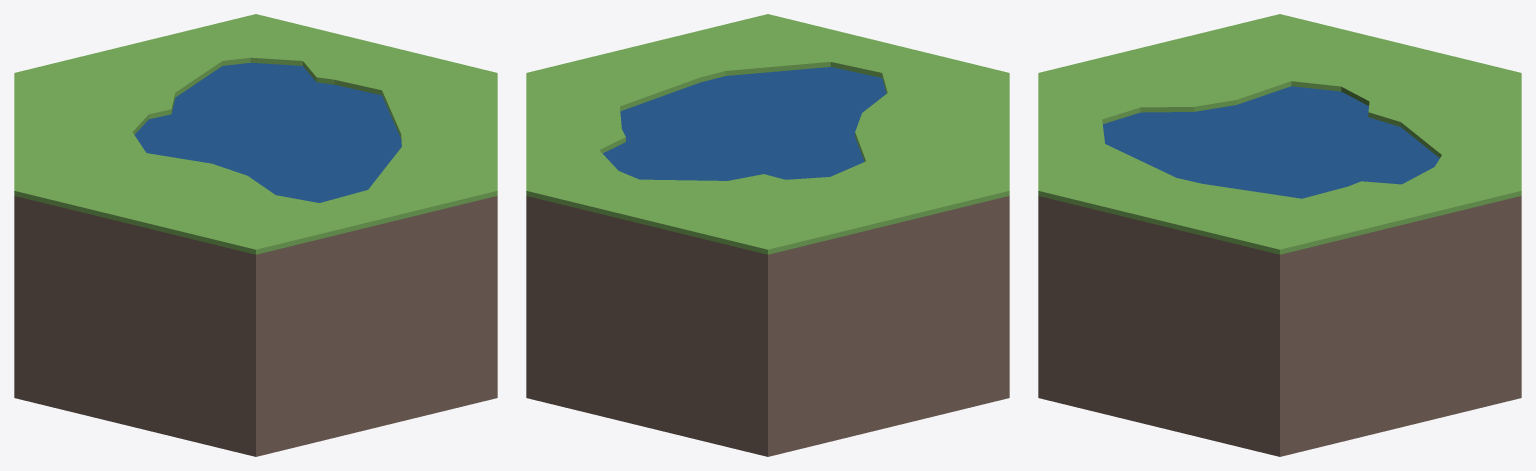
File: tile_lake01.fbx
3 renders of one model, left to right at view 1: azimuth 30°, elevation 25°; view 2: azimuth 150°, elevation 25°; view 3: azimuth 270°, elevation 25°, orthographic.
Visible parts, largest first — view 1: Tile_Lake; view 2: Tile_Lake; view 3: Tile_Lake.
Boxes of the visible parts, box(x1,y1,x2,y2) form: Tile_Lake: box(14, 14, 497, 456); Tile_Lake: box(526, 14, 1009, 456); Tile_Lake: box(1038, 14, 1521, 456).
Size of the model in its own units: 2 by 0.82 by 1.73.
